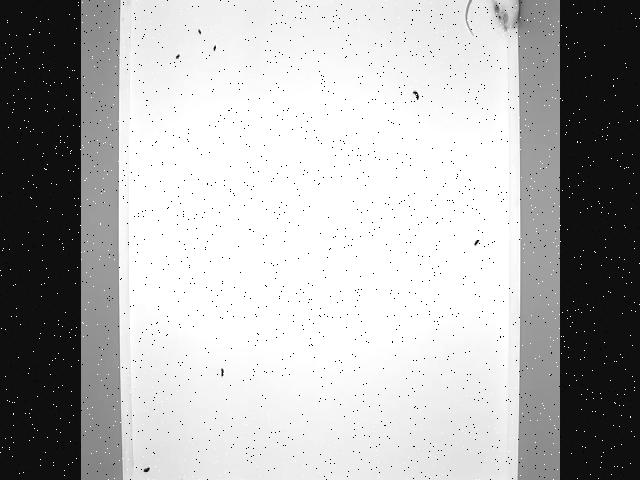Tikus: (462, 0, 521, 40)
